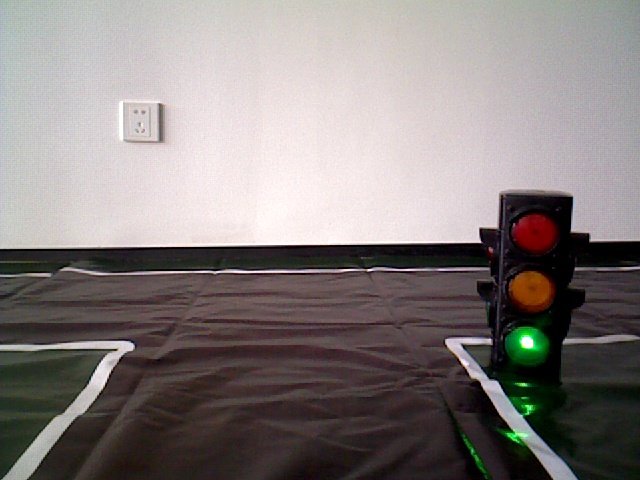green: (497, 202, 558, 375)
